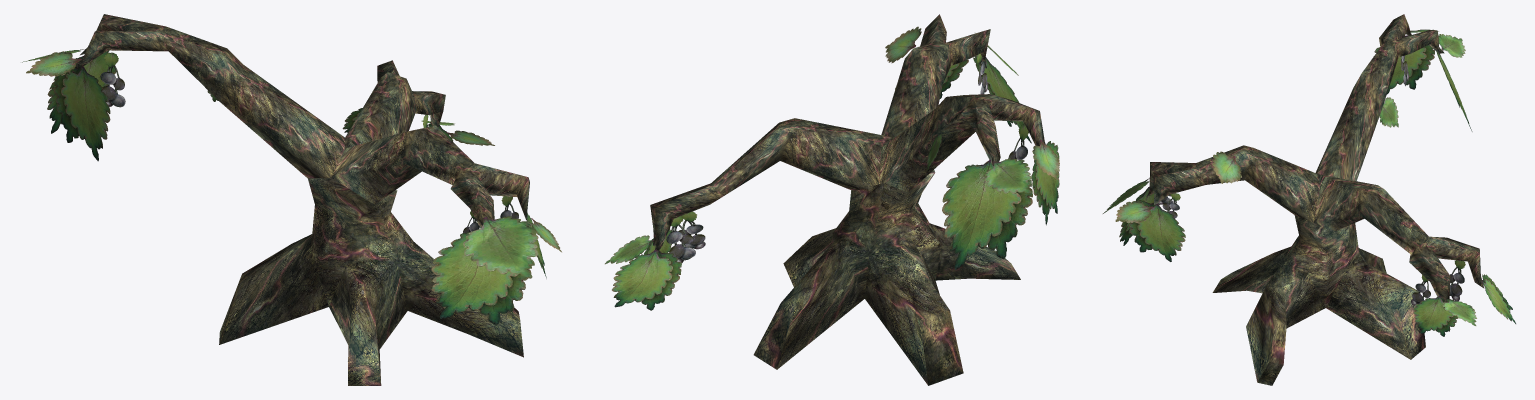
File: leaf_dath_hwotha_a1_l0.fbx
The picture shows the model from 3 angles, left to right: view 1: azimuth 30°, elevation 25°; view 2: azimuth 150°, elevation 25°; view 3: azimuth 270°, elevation 25°; orthographic projection. The views are drawn at different scales.
Parts seen in each view (by area): view 1: mesh_node; view 2: mesh_node; view 3: mesh_node.
Part boxes in pixels (x1,y1,x2,y2): mesh_node: (22,14,561,385); mesh_node: (605,14,1059,385); mesh_node: (1103,14,1515,385).
Size of the model in its own units: 4.61 by 3.21 by 4.97.
2 materials, 2 textured.
